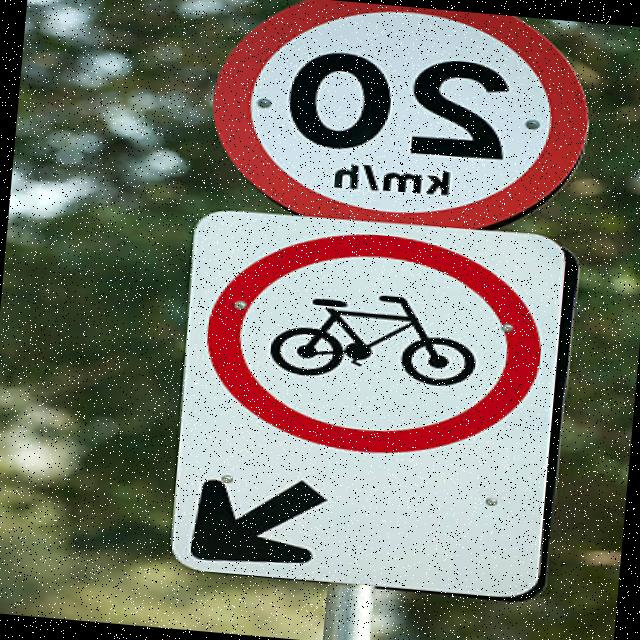speed_limit_20: (191, 0, 612, 244)
